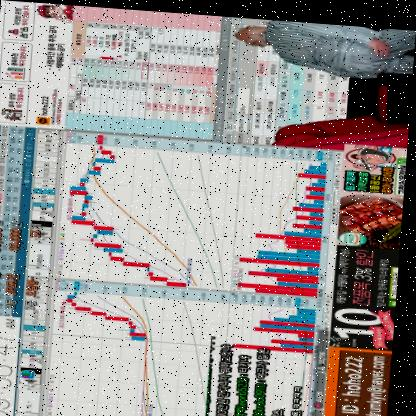streamer: (231, 14, 416, 76)
